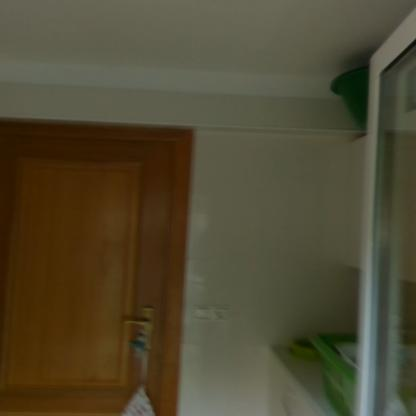door: (0, 135, 166, 415)
lever: (118, 317, 156, 327)
